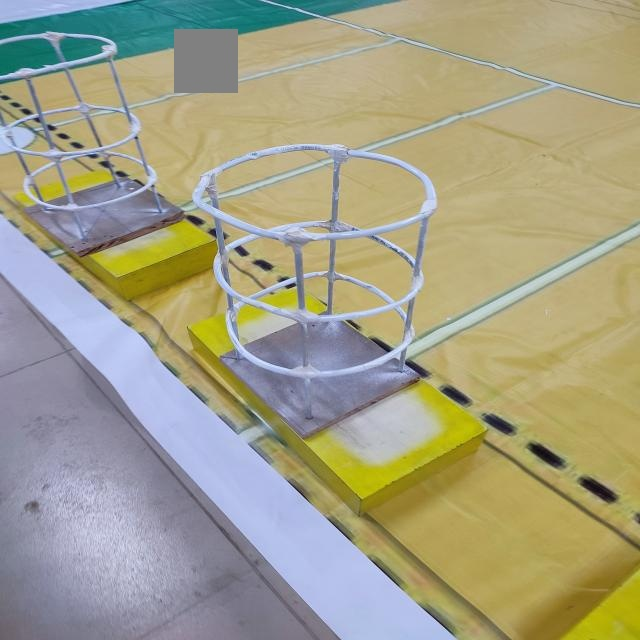silo: (202, 143, 435, 424), (0, 19, 197, 244)
